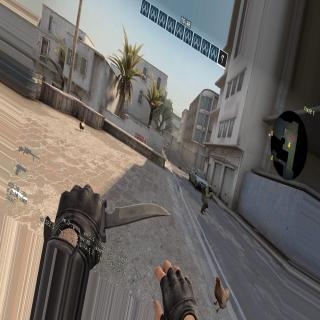CT-Body: (200, 184, 215, 209)
CT-Head: (208, 185, 213, 193)
